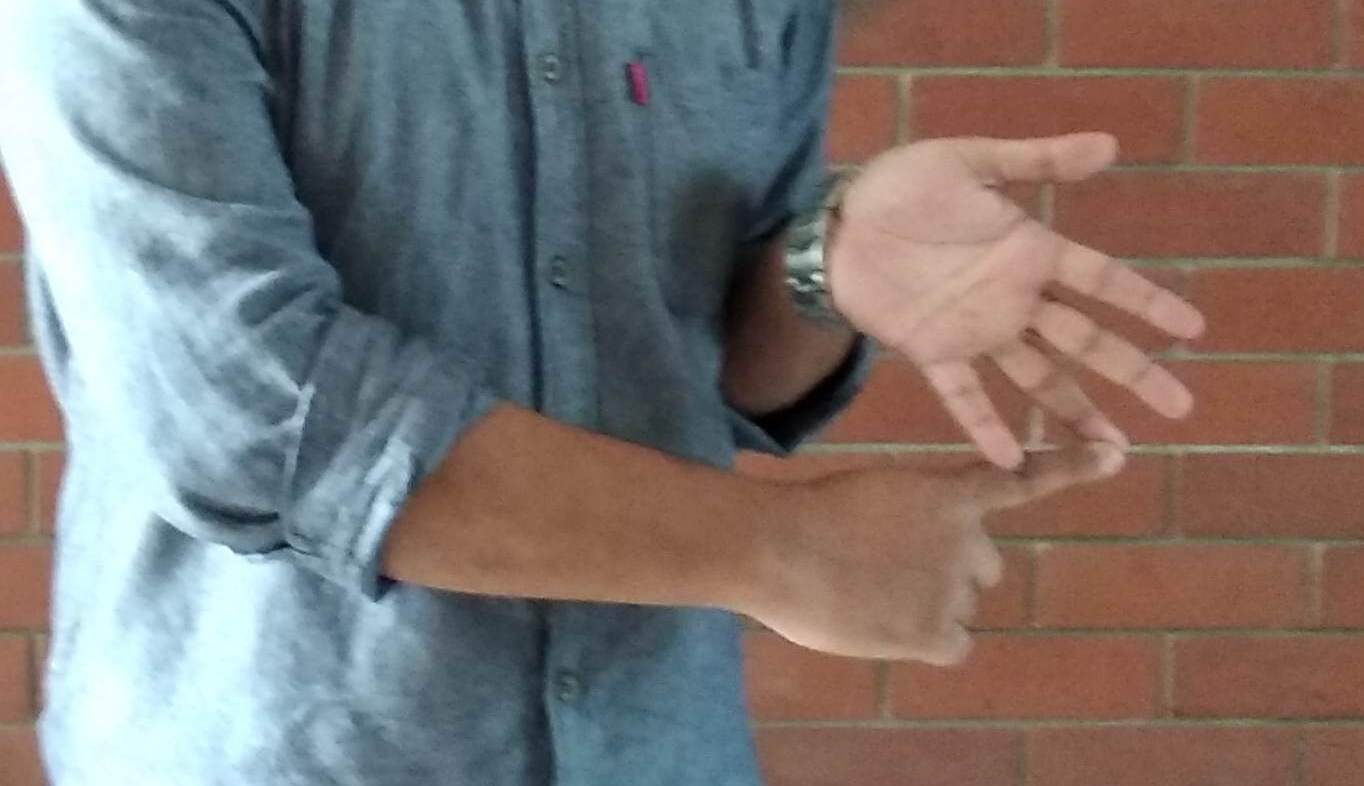e: (807, 139, 1193, 572)
